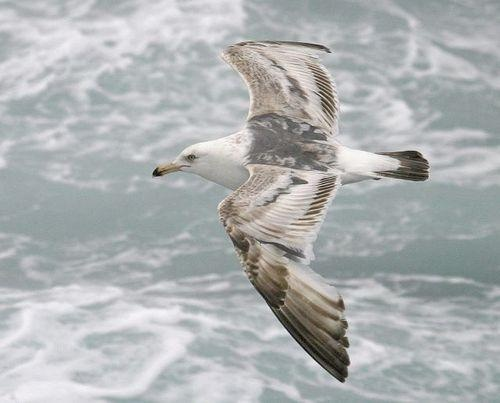bird: (150, 37, 429, 387)
